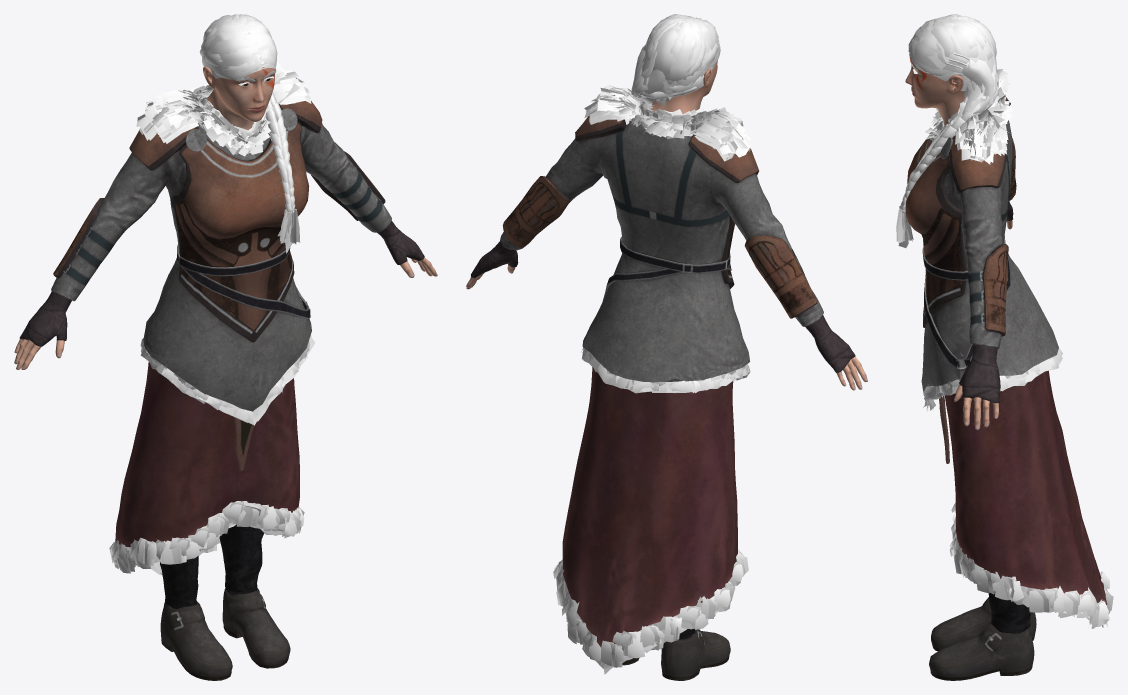
The model's file is handRaising.glb.
3 renders of one model, left to right at view 1: azimuth 30°, elevation 25°; view 2: azimuth 150°, elevation 25°; view 3: azimuth 270°, elevation 25°, orthographic. The views are drawn at different scales.
Parts seen in each view (by area): view 1: Object_2, Object_3, Object_4; view 2: Object_2, Object_3, Object_4; view 3: Object_2, Object_3, Object_4.
Part boxes in pixels (left/top/right/bottom): Object_2: left=51, top=33, right=391, bottom=680; Object_3: left=109, top=14, right=315, bottom=575; Object_4: left=14, top=220, right=437, bottom=369; Object_2: left=500, top=60, right=823, bottom=680; Object_3: left=553, top=14, right=751, bottom=674; Object_4: left=466, top=241, right=867, bottom=390; Object_2: left=905, top=24, right=1107, bottom=680; Object_3: left=896, top=14, right=1113, bottom=628; Object_4: left=954, top=201, right=1013, bottom=429.
Bounding box in the file's own units: 119 × 180 × 55.36.
Materials: 2 (2 with a texture image).
